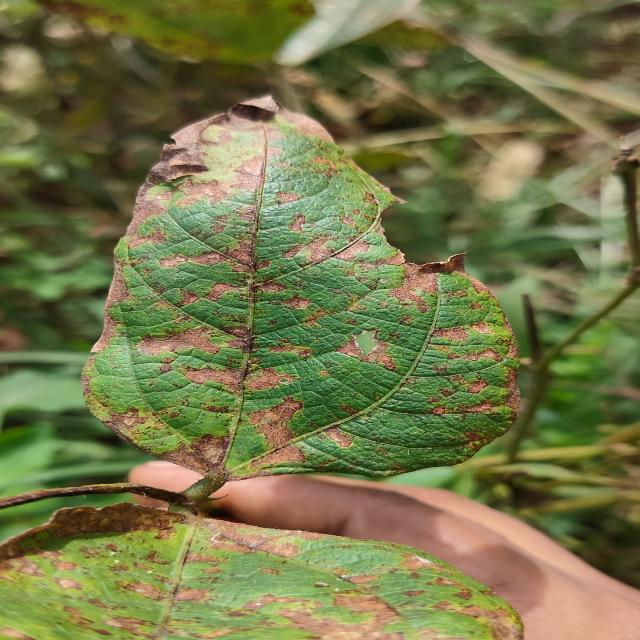Black gram_leaf spot: (80, 91, 515, 482), (0, 493, 527, 640)
